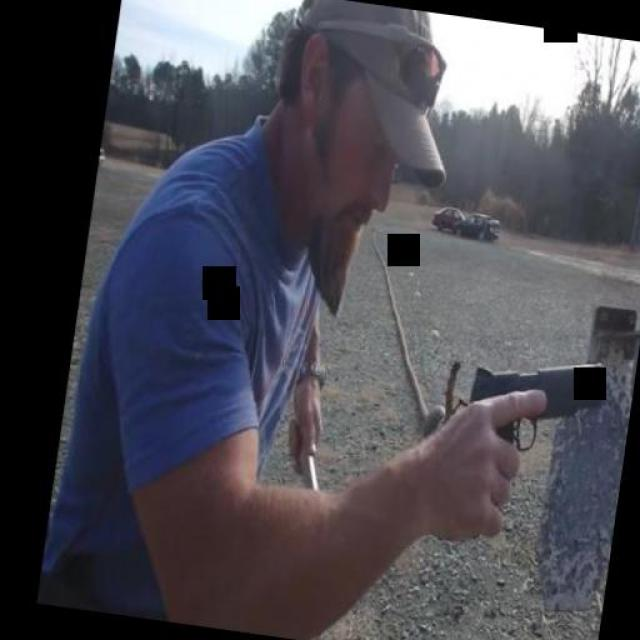gun: (444, 338, 614, 538)
